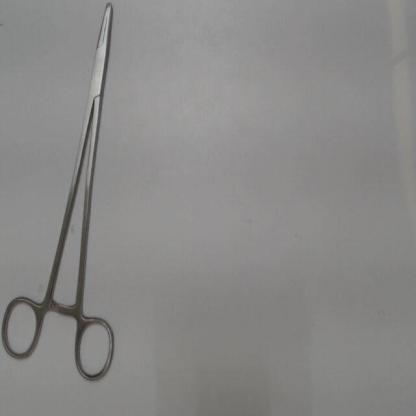8 Mayo Needle Holder: (0, 0, 121, 387)
